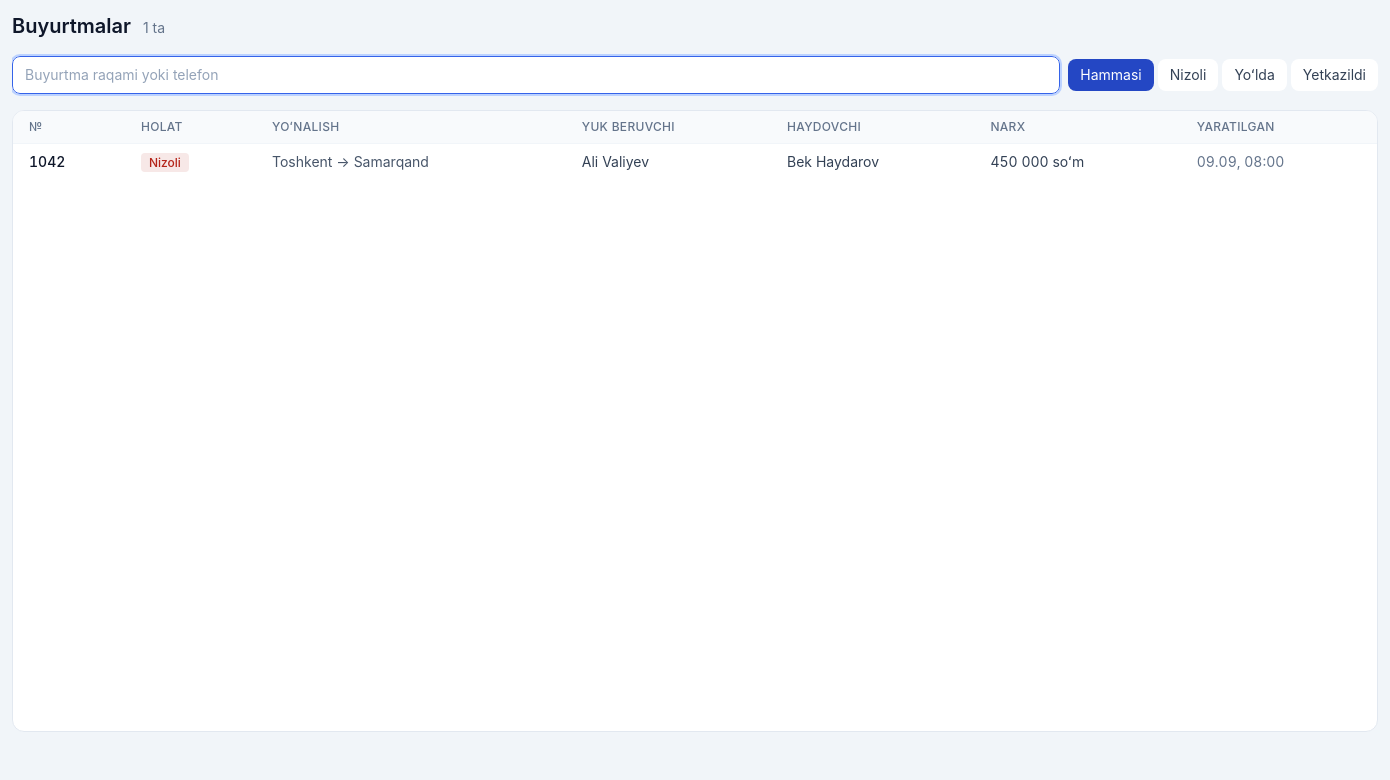
Test: OrdersPage › ★ TAFSILOTDA STATUS CHIZIGʻI VA VAQT FARQI
Click the text "1042": (47,162) [13,144,125,180]
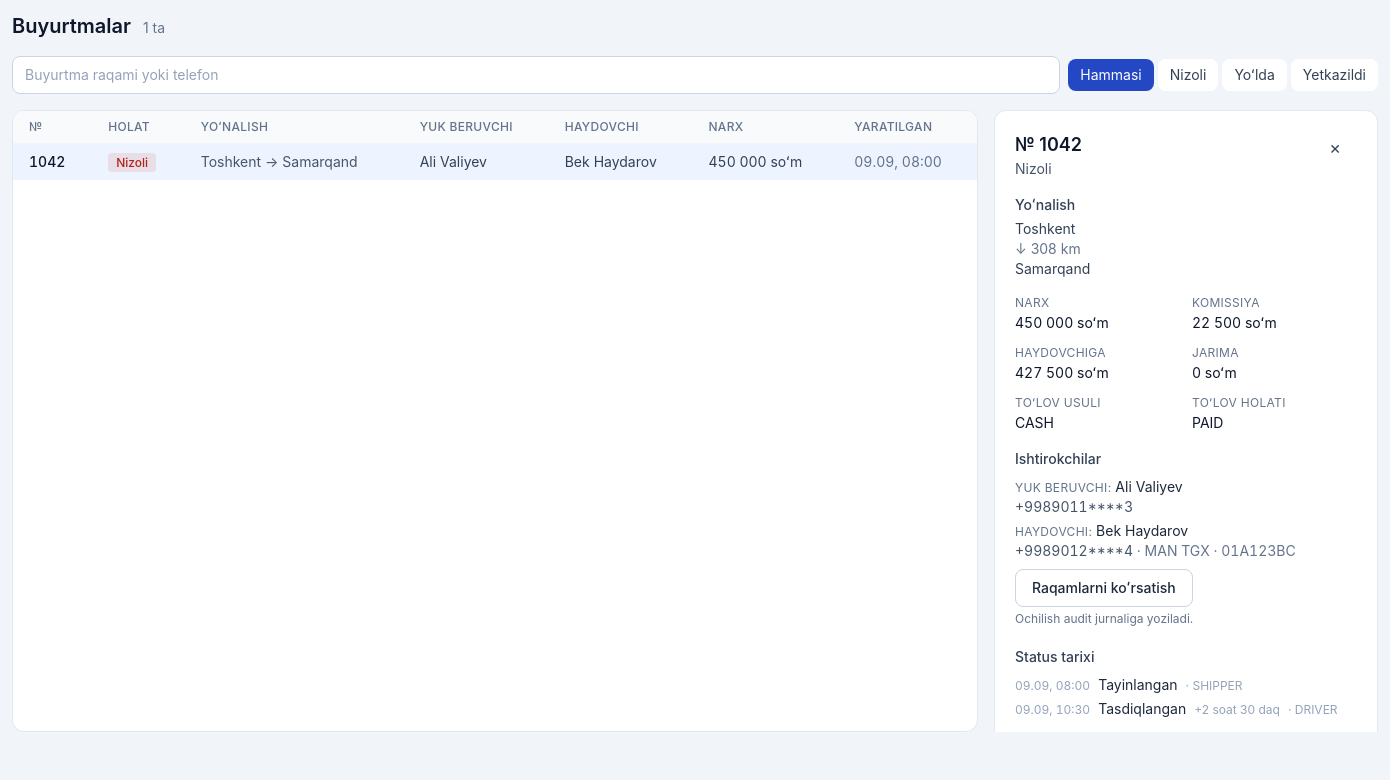
Expected: the text "Tayinlangan" is shown, [1098,675,1178,695]
Expected: the text "Tasdiqlangan" is shown, [1098,699,1186,719]
Expected: the text "+2 soat 30 daq" is shown, [1194,702,1280,718]
